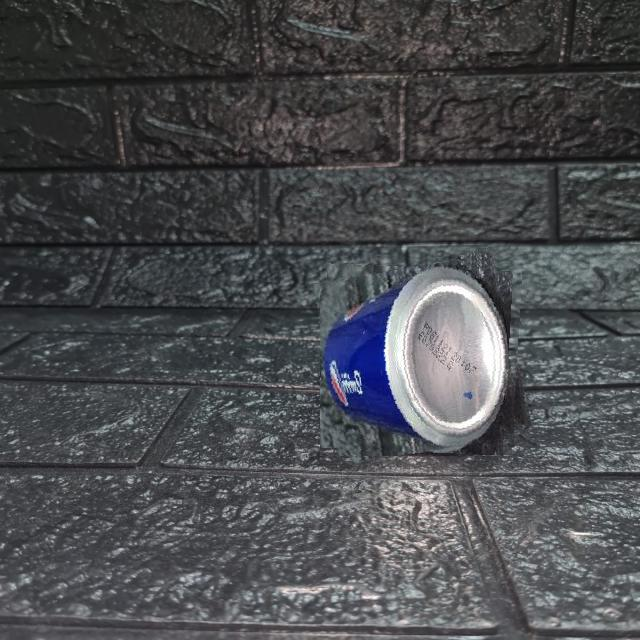recyclable: (320, 253, 523, 456)
